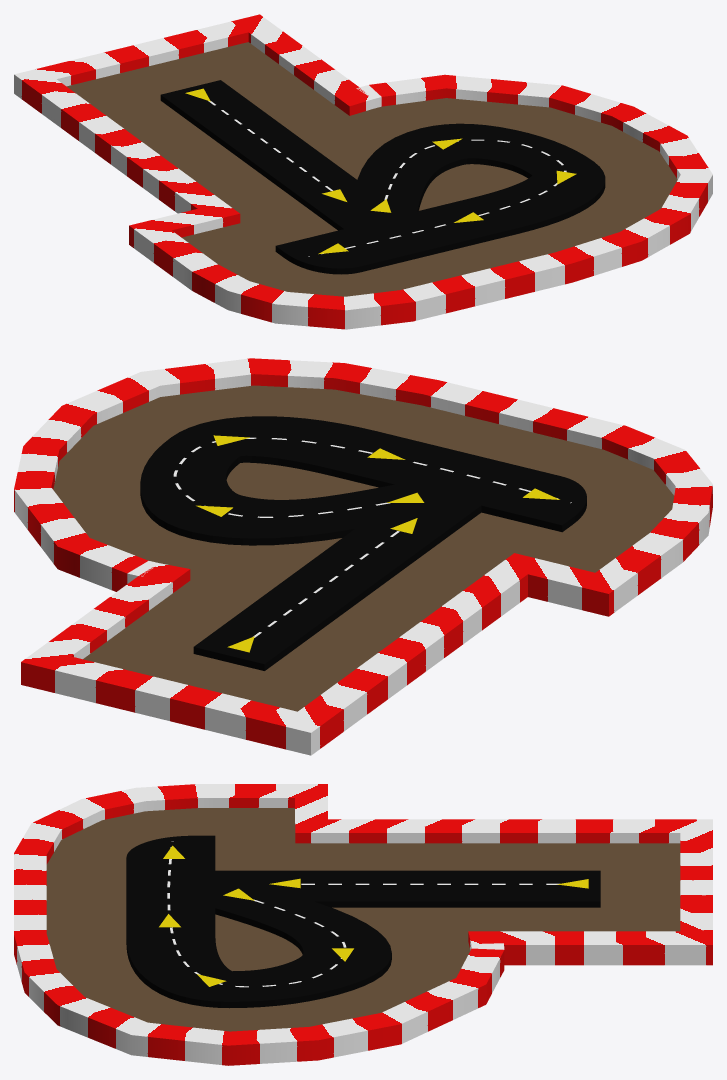
File: tah.FBX
The picture shows the model from 3 angles, top to bottom: view 1: azimuth 30°, elevation 25°; view 2: azimuth 150°, elevation 25°; view 3: azimuth 270°, elevation 25°; orthographic projection. The views are drawn at different scales.
Visible parts, largest first — view 1: tah_floor, tah_coll, tah; view 2: tah_floor, tah_coll, tah; view 3: tah_floor, tah_coll, tah, line0.
Boxes of the visible parts, <box> form: tah_floor: <box>67,42,677,296</box>; tah_coll: <box>14,14,712,329</box>; tah: <box>160,80,605,274</box>; tah_floor: <box>53,385,674,711</box>; tah_coll: <box>14,358,712,755</box>; tah: <box>140,416,586,670</box>; tah_floor: <box>46,808,680,1031</box>; tah_coll: <box>14,784,712,1065</box>; tah: <box>126,835,600,1008</box>; line0: <box>167,841,346,987</box>.
Size of the model in its own units: 909 by 32.77 by 1026.
